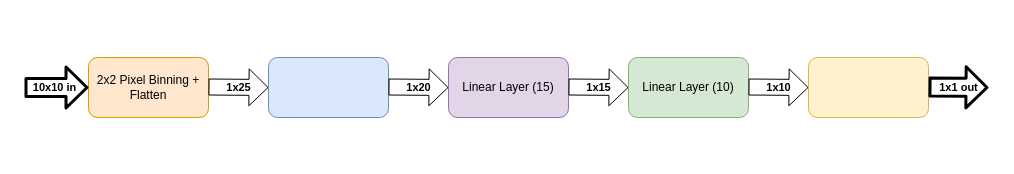
Some shapes in this 1014 by 174 pixel diagram are drawn without their labels. Here are the shapes that lost their labels. From the top down, the centre of each, then its label:
(328,87): Linear Layer (20)
(868,87): Argmax
